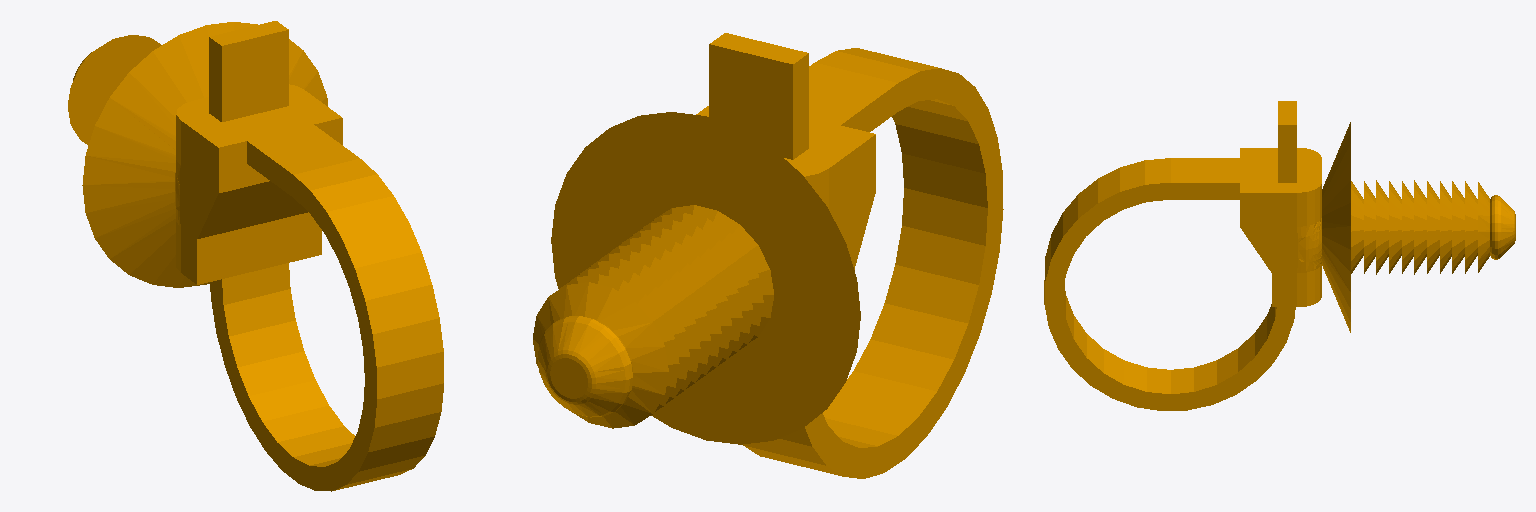
The robot description file, URDF, robot "Clip1":
<?xml version="1.0" encoding="utf-8"?>
<!-- This URDF was automatically created by SolidWorks to URDF Exporter! Originally created by [author] ([email redacted]) 
     Commit Version: 1.5.1-0-g916b5db  Build Version: 1.5.7152.31018
     For more information, please see http://wiki.ros.org/sw_urdf_exporter -->
<robot
  name="Clip1">
  <link
    name="Clips_1.SLDPRT">
    <inertial>
      <origin
        xyz="-3.4406E-11 -0.0018606 -0.0010119"
        rpy="0 0 0" />
      <mass
        value="0.0014073" />
      <inertia
        ixx="1.373E-07"
        ixy="1.5252E-16"
        ixz="1.5879E-15"
        iyy="4.1796E-08"
        iyz="1.9183E-08"
        izz="1.0918E-07" />
    </inertial>
    <visual>
      <origin
        xyz="0 0 0"
        rpy="1.5707963267949 0 0" />
      <geometry>
        <mesh
          filename="package://Clip1/meshes/Clips_1.SLDPRT.STL" />
      </geometry>
    </visual>
    <collision>
      <origin
        xyz="0 0 0"
        rpy="1.5707963267949 0 0" />
      <geometry>
        <mesh
          filename="package://Clip1/meshes/Clips_1.SLDPRT.STL" />
      </geometry>
    </collision>
  </link>
</robot>

--- Render facts (derived) ---
3 views of the same robot in one strip: view 1: azimuth 30°, elevation 25°; view 2: azimuth 150°, elevation 25°; view 3: azimuth 270°, elevation 25° (orthographic).
Model Clip1 with 1 links and 0 joints (none), rooted at Clips_1.SLDPRT, posed every joint at zero.
Links seen in each view (by area): view 1: Clips_1.SLDPRT; view 2: Clips_1.SLDPRT; view 3: Clips_1.SLDPRT.
Link boxes in pixels (x1,y1,x2,y2): Clips_1.SLDPRT: (68,21,443,491); Clips_1.SLDPRT: (533,33,1003,478); Clips_1.SLDPRT: (1044,101,1515,410).
Size in the robot's own frame: 0.017 by 0.0373 by 0.025 metres.
1 mesh visuals loaded from 1 distinct referenced files (1 binary STL).